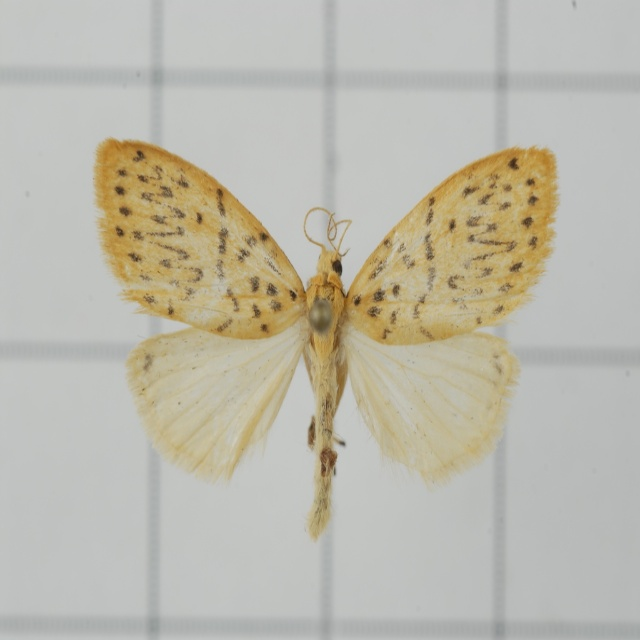Butterfly: (102, 145, 540, 551)
